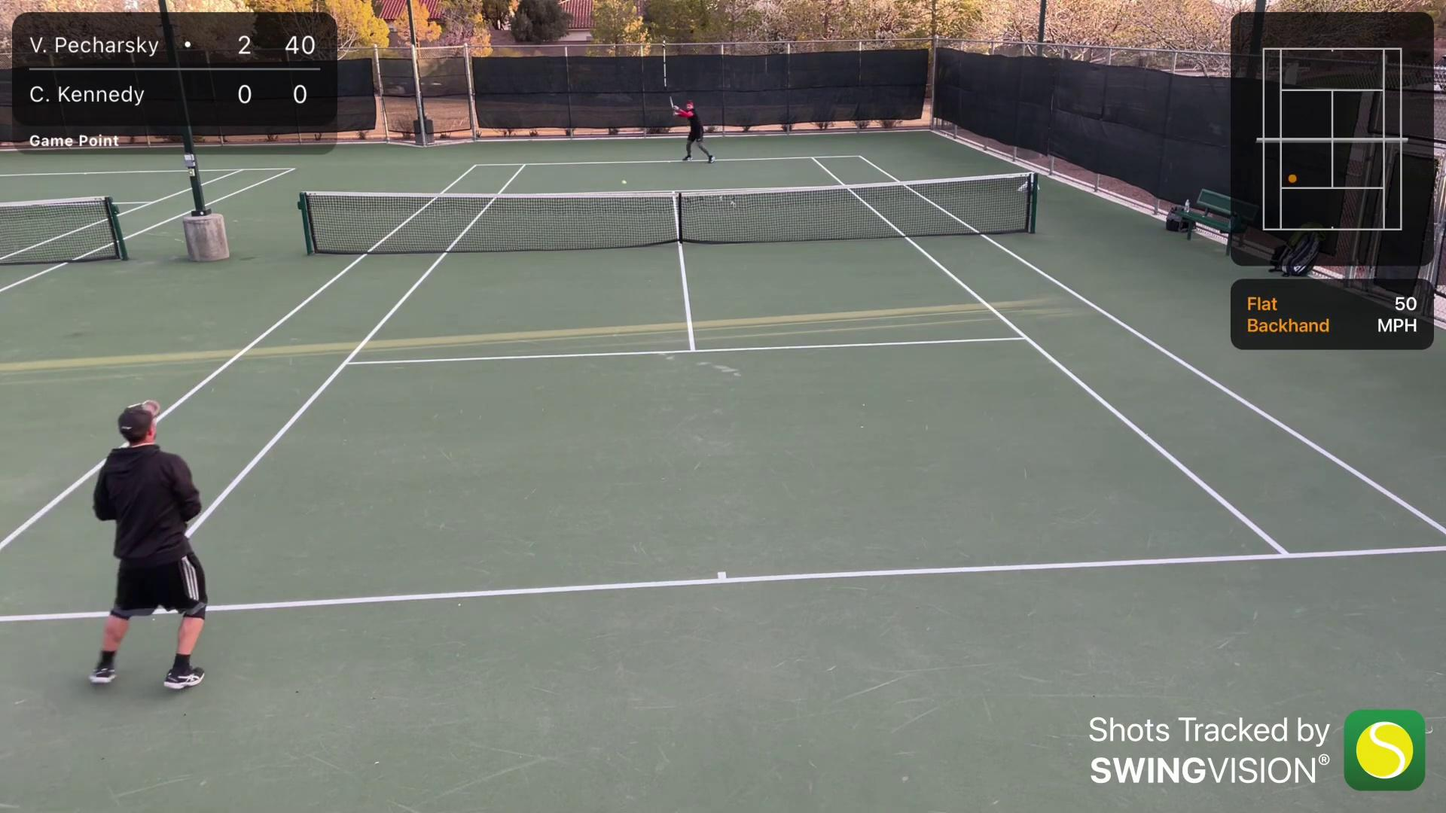ball: (621, 180, 628, 185)
